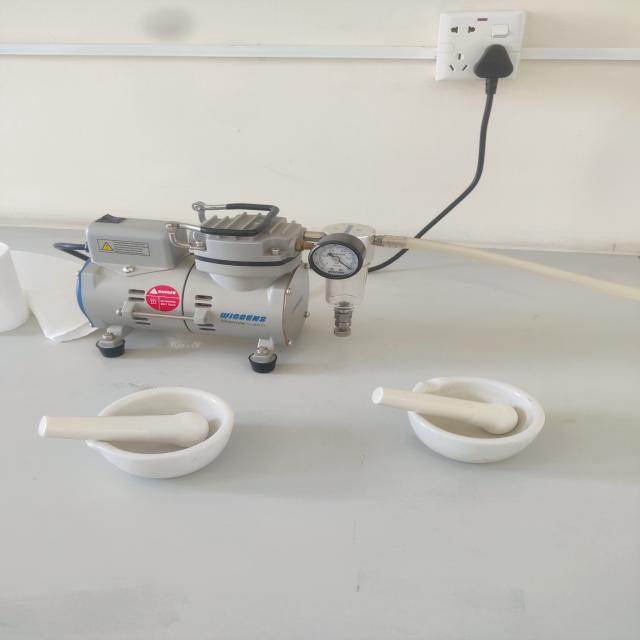Porcelain_Mortar Pestle: (28, 356, 253, 505), (350, 348, 572, 491)
